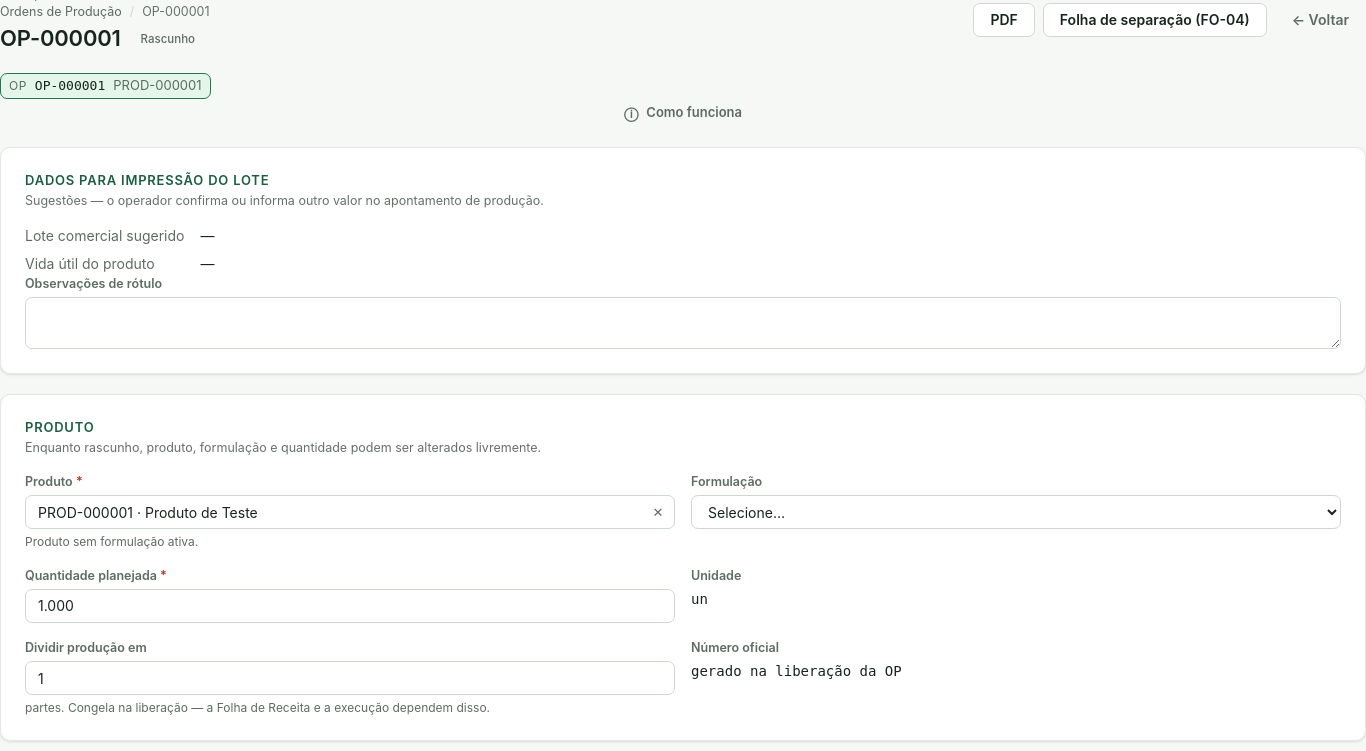
Test case: OP em rascunho com programação — mudar a quantidade › pergunta antes de enviar, com a frase e as duas ações — nada vai ao servidor
Expected: the heading "OP-000001" is shown, top-left (0, 25), bottom-right (121, 53)
Replace the text in the field with id "op-quantity" with "2000" at (350, 606), box top-left (25, 589), bottom-right (675, 623)
(page scrolled)
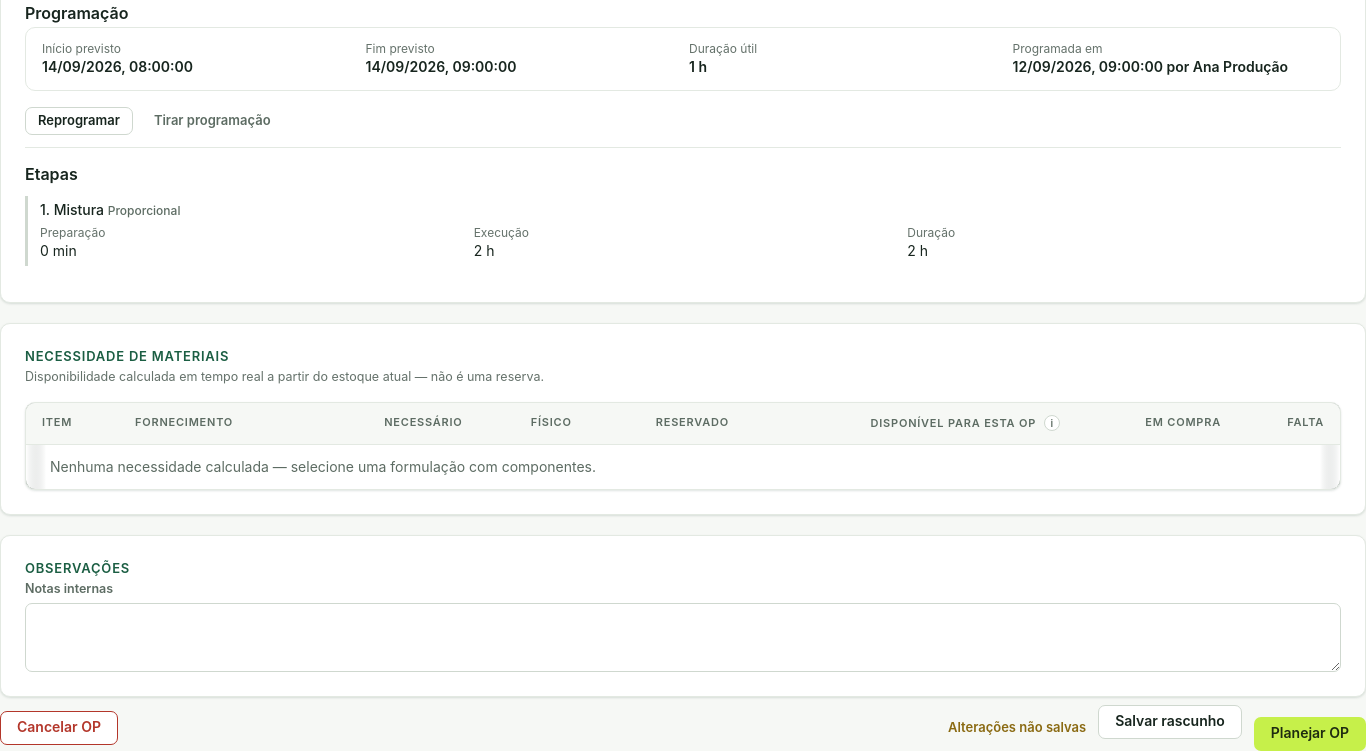
Click the button "Salvar rascunho".
click(1170, 722)  # box top-left (1098, 704), bottom-right (1242, 738)
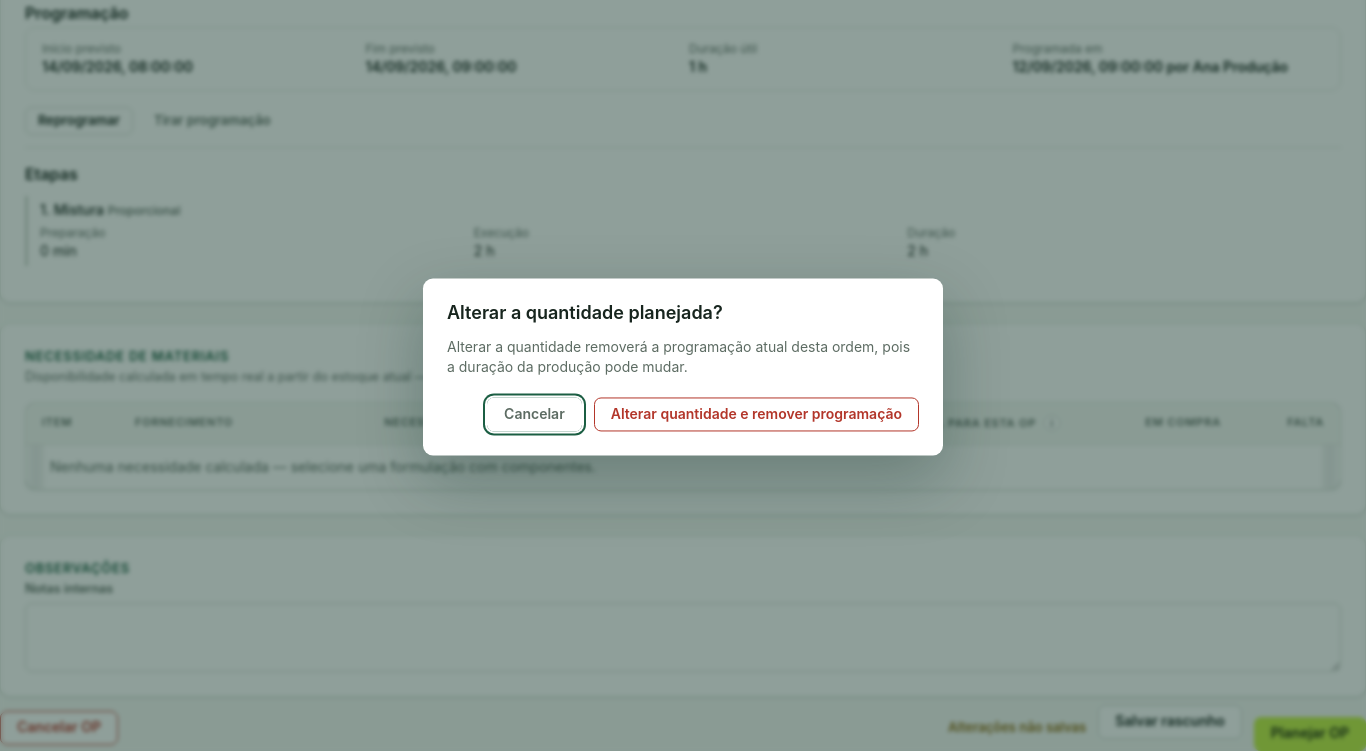
Result: the dialog shows "Alterar a quantidade removerá a programação atual desta ordem, pois a duração da produção pode mudar." at top-left (447, 338), bottom-right (910, 375)
Result: the button "Cancelar" is shown at top-left (487, 398), bottom-right (582, 432)
Result: the button "Alterar quantidade e remover programação" is shown at top-left (594, 398), bottom-right (919, 432)
